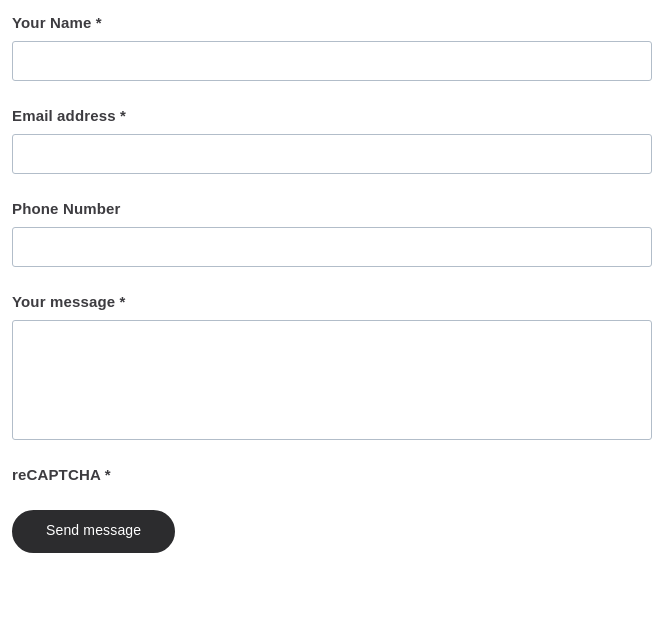
Test: ContactForm Component › shows validation errors for required fields
Click the button "Send message": (94,532) 12,510 -> 175,553
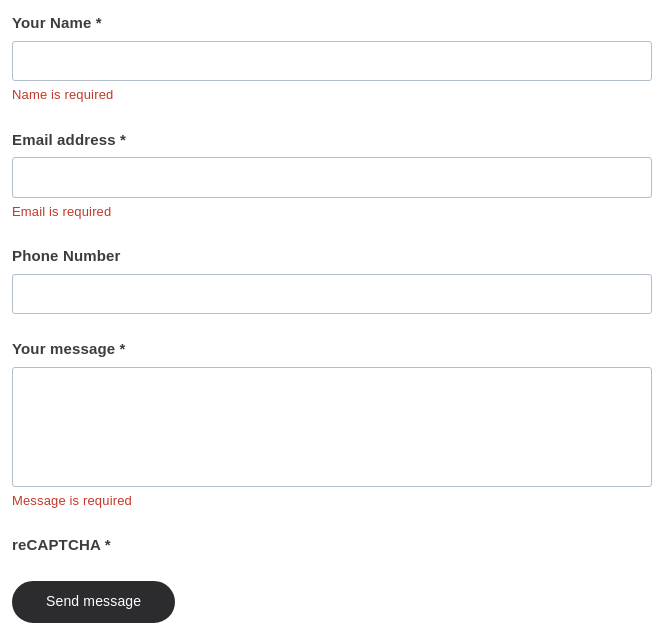
Result: the text "Name is required" is shown at 12,87 -> 113,102
Result: the text "Email is required" is shown at 12,204 -> 111,219
Result: the text "Message is required" is shown at 12,493 -> 132,508
